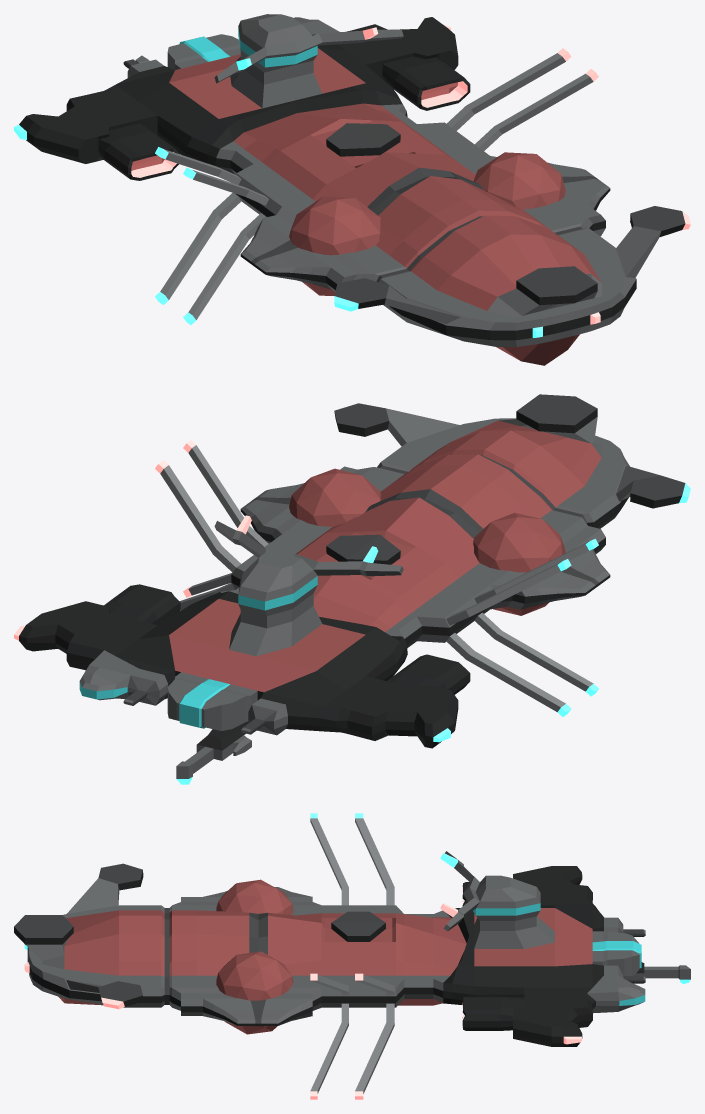
Rendered from Tanker_M_LODGroup.fbx.
3 renders of one model, top to bottom at view 1: azimuth 30°, elevation 25°; view 2: azimuth 150°, elevation 25°; view 3: azimuth 270°, elevation 25°, orthographic. The views are drawn at different scales.
Parts seen in each view (by area): view 1: Tanker M_LOD0; view 2: Tanker M_LOD0; view 3: Tanker M_LOD0.
Part boxes in pixels (x1,y1,x2,y2): Tanker M_LOD0: (14, 14, 690, 365); Tanker M_LOD0: (14, 394, 690, 784); Tanker M_LOD0: (14, 813, 690, 1099).
Size of what is drawn, in the model's own units: 184 by 70.78 by 309.
